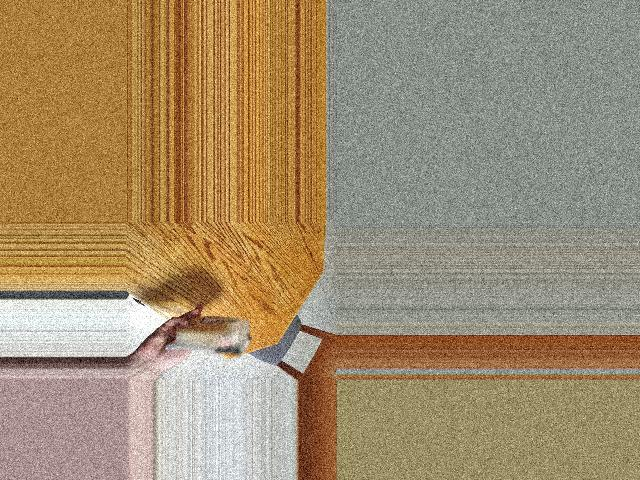cheese: (173, 307, 248, 362)
